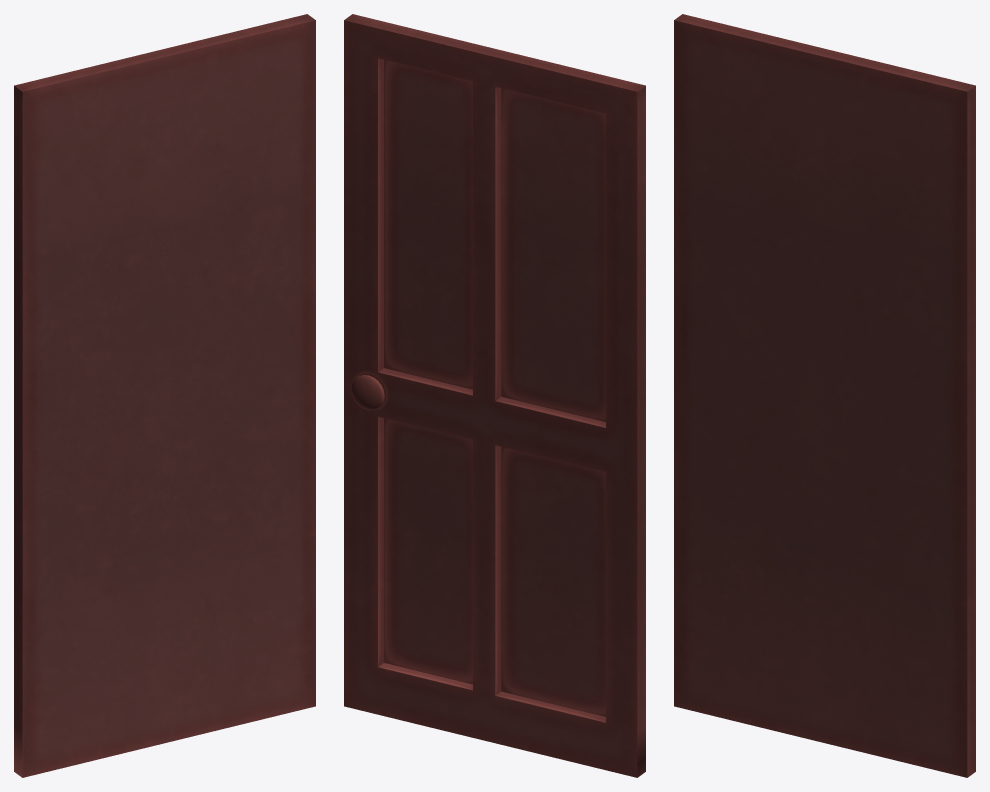
The model's file is SM_Door.fbx.
3 renders of one model, left to right at view 1: azimuth 30°, elevation 25°; view 2: azimuth 150°, elevation 25°; view 3: azimuth 330°, elevation 25°, orthographic.
Visible parts, largest first — view 1: SM_Door_LOD0; view 2: SM_Door_LOD0; view 3: SM_Door_LOD0.
Part boxes in pixels (box(x1,y1,x2,y2)): SM_Door_LOD0: box(14, 14, 315, 777); SM_Door_LOD0: box(344, 14, 645, 777); SM_Door_LOD0: box(674, 14, 975, 777).
Size of the model in its own units: 116 by 10.12 by 260.
Materials: 1 (1 with a texture image).
